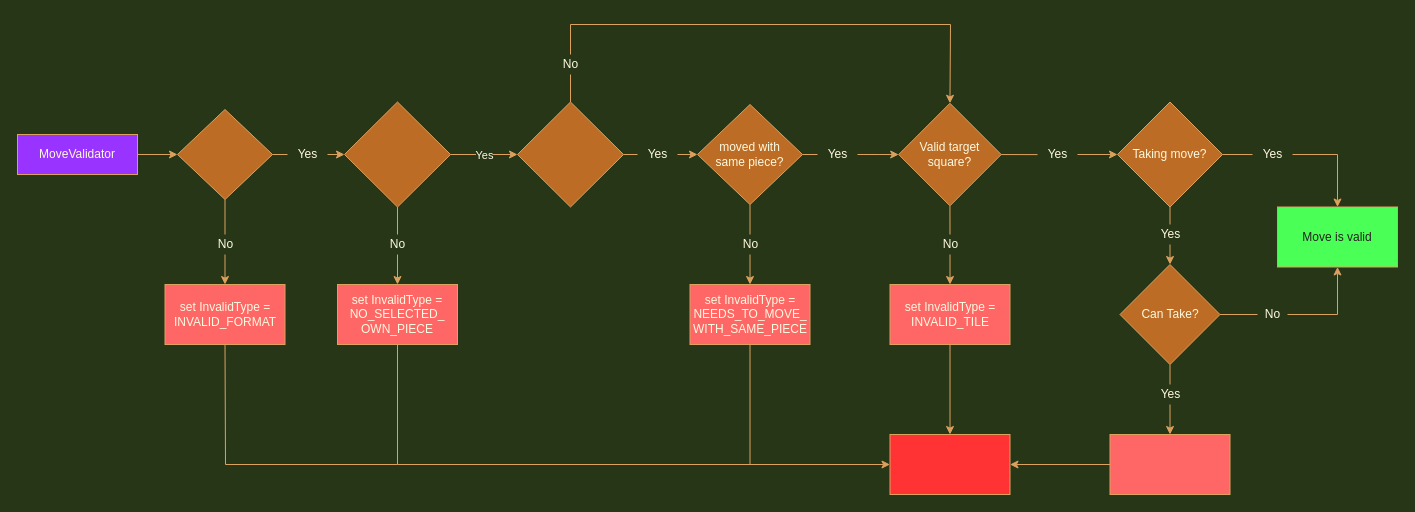
Some shapes in this 1415 by 512 pixel diagram are drawn without their labels. The centre of each missing label's shape, as x and y in pixels:
"Move is invalid" goes at (949,464).
"Previous move exists?" goes at (570,154).
"Selected own piece?" goes at (397,154).
"set InvalidMove = HAS_TO_TAKE" goes at (1169,464).
"Valid input format?" goes at (224,154).
